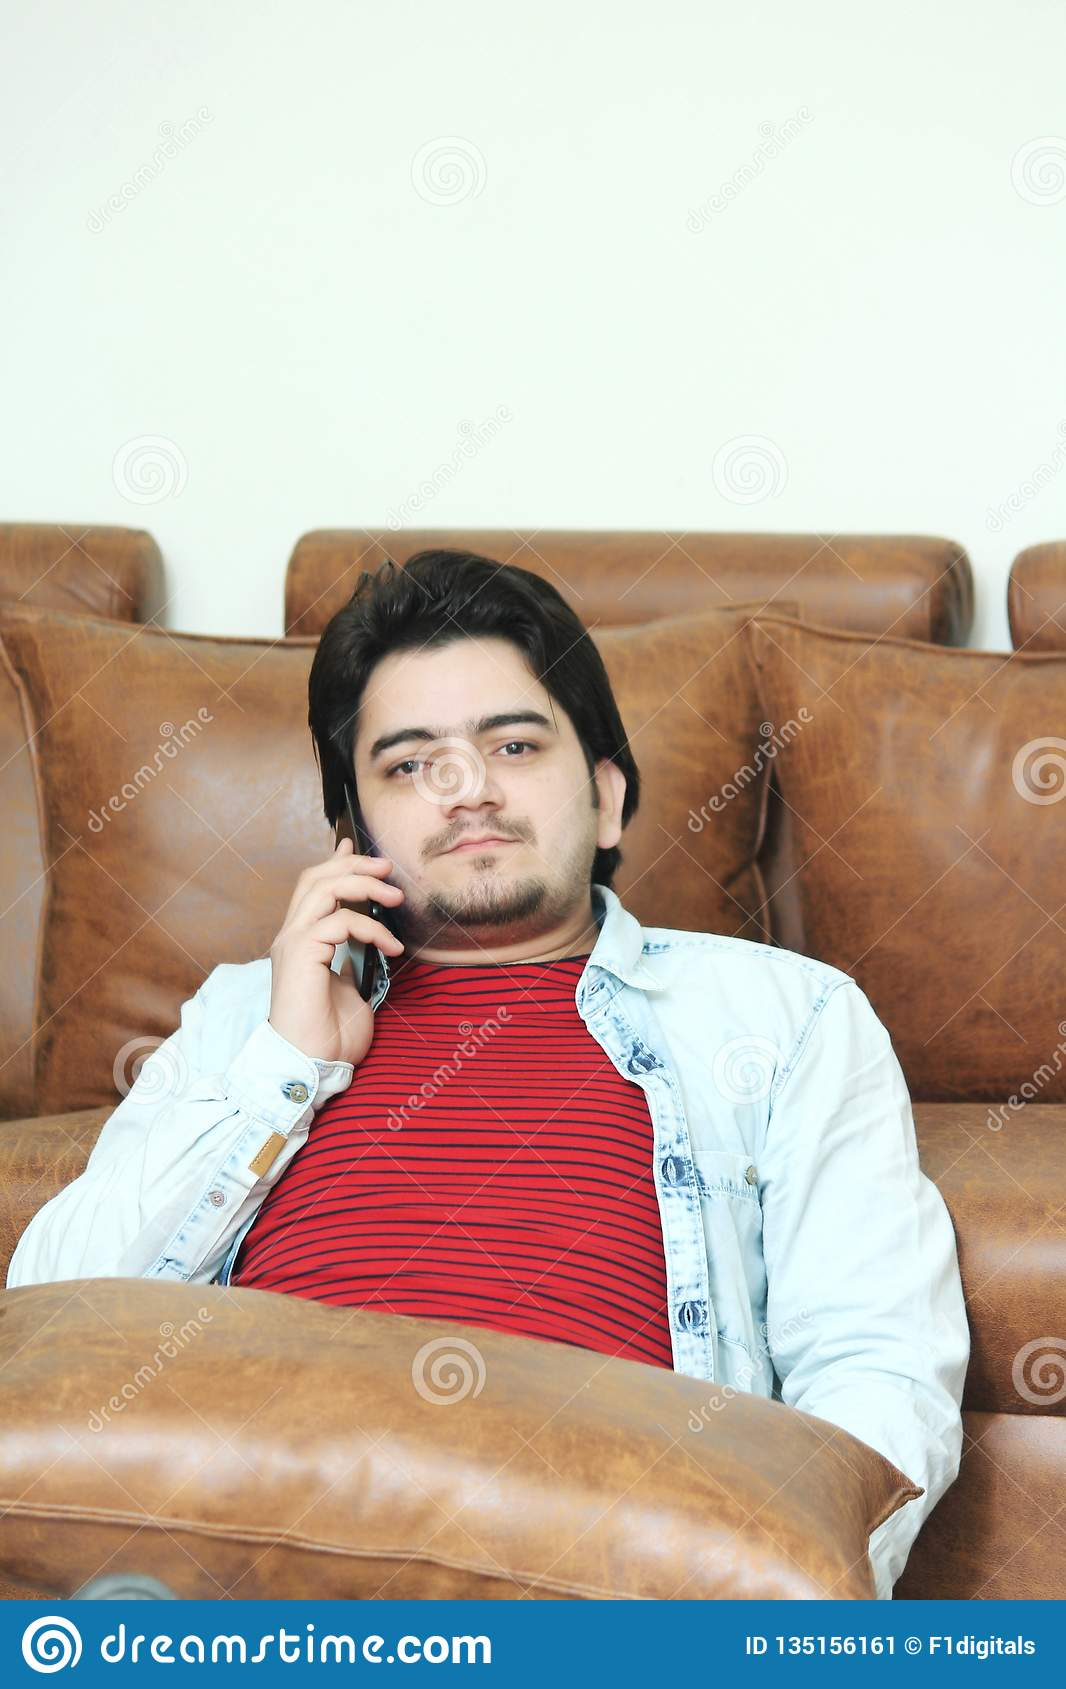phone: (311, 782, 404, 1030)
talk: (262, 691, 582, 1067)
